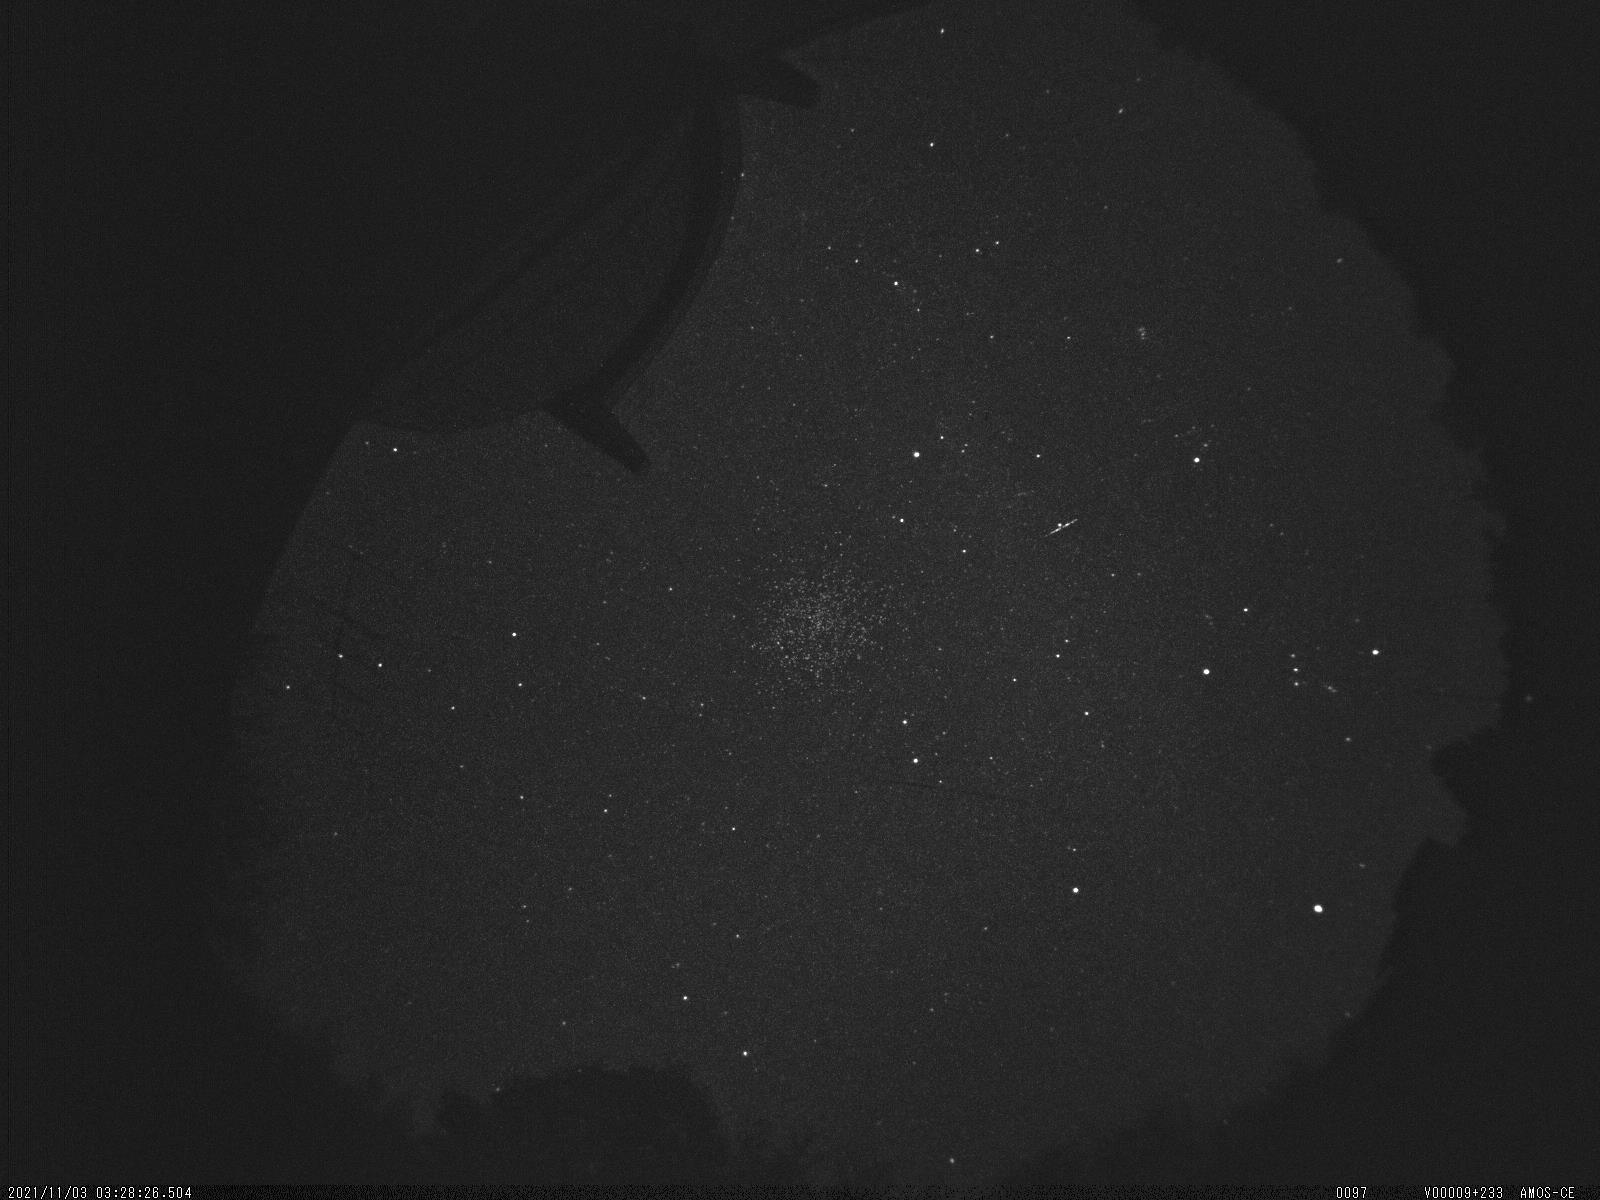Meteor: (1032, 505, 1092, 547)
